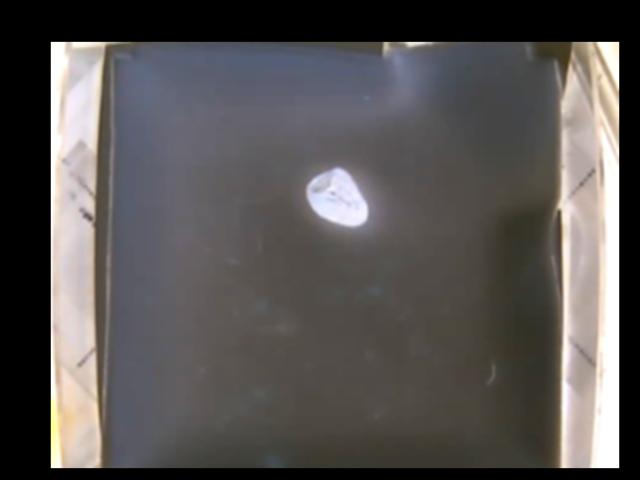Pebble: (305, 165, 369, 228)
